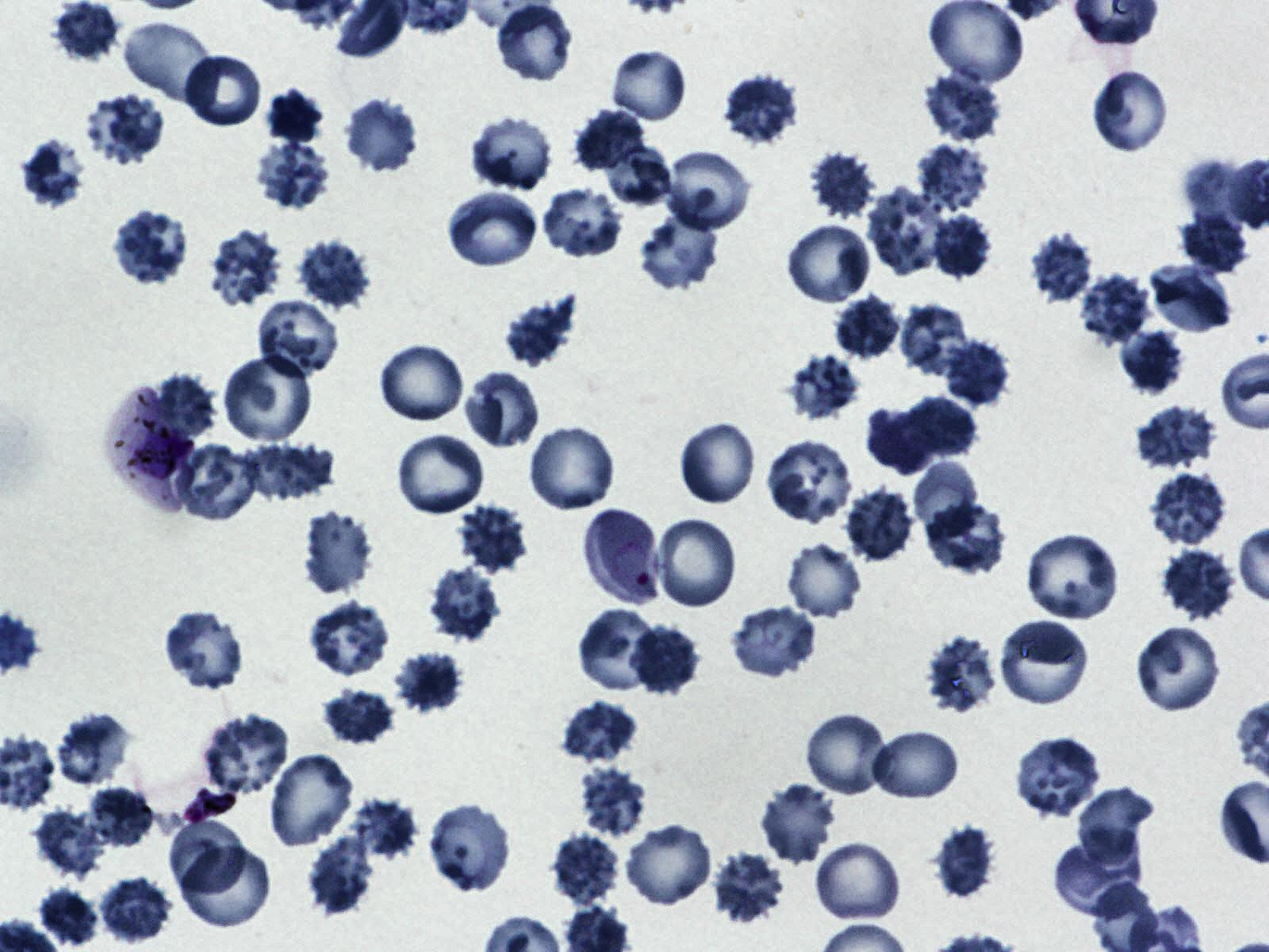Infected: (102, 385, 196, 511), (580, 505, 661, 605), (142, 777, 236, 829)
Uninfected: (221, 349, 316, 447), (1024, 530, 1123, 621), (266, 751, 357, 850), (999, 618, 1094, 708), (393, 431, 487, 520), (654, 514, 740, 611), (181, 841, 273, 931), (623, 820, 715, 908), (1137, 624, 1224, 715), (427, 801, 513, 893), (201, 712, 293, 798), (763, 440, 855, 526), (661, 146, 753, 231), (116, 23, 213, 103), (532, 427, 618, 517), (813, 839, 904, 924), (1013, 736, 1103, 820), (377, 342, 468, 425), (577, 609, 665, 693), (785, 223, 875, 305), (447, 191, 539, 271), (160, 608, 247, 692), (1056, 833, 1143, 916), (171, 443, 259, 525), (639, 209, 719, 298), (678, 421, 760, 507), (870, 727, 960, 804), (470, 110, 554, 192), (178, 53, 265, 132), (255, 298, 340, 378), (804, 716, 886, 798), (867, 189, 945, 275), (306, 602, 393, 679), (299, 507, 373, 596), (1093, 69, 1168, 156), (56, 708, 136, 789), (108, 209, 191, 287), (1150, 259, 1236, 334), (922, 501, 1010, 574), (497, 1, 575, 83), (85, 89, 169, 165), (1130, 400, 1218, 472), (464, 367, 541, 449), (918, 637, 999, 714), (1074, 789, 1153, 867), (759, 784, 834, 866), (541, 184, 626, 256), (344, 94, 419, 175), (921, 71, 1003, 145), (736, 602, 816, 676), (914, 142, 994, 216), (705, 850, 785, 924), (207, 232, 288, 305), (611, 48, 688, 124), (423, 562, 498, 639), (1148, 475, 1227, 548), (723, 69, 799, 144), (251, 139, 333, 208), (845, 488, 920, 563), (29, 805, 105, 879), (167, 820, 244, 893), (1075, 274, 1151, 347), (297, 237, 375, 308), (629, 618, 702, 693), (98, 873, 173, 946), (392, 644, 466, 717), (562, 698, 642, 764), (934, 339, 1008, 410), (909, 459, 977, 536), (243, 444, 336, 500), (505, 293, 577, 365), (1115, 324, 1187, 396), (1024, 231, 1094, 305), (543, 836, 618, 904), (308, 835, 372, 913), (1164, 545, 1234, 616), (789, 547, 861, 616), (899, 304, 969, 374), (574, 108, 646, 175), (934, 827, 998, 900), (579, 767, 646, 836), (1178, 209, 1248, 275), (780, 356, 857, 416), (906, 394, 977, 459), (23, 144, 95, 204), (809, 150, 873, 216), (930, 213, 992, 281), (350, 801, 419, 862), (458, 505, 523, 569), (838, 290, 900, 357), (86, 787, 155, 846), (322, 690, 395, 745), (609, 144, 674, 205), (52, 1, 117, 61), (156, 374, 217, 437), (36, 890, 99, 946)
